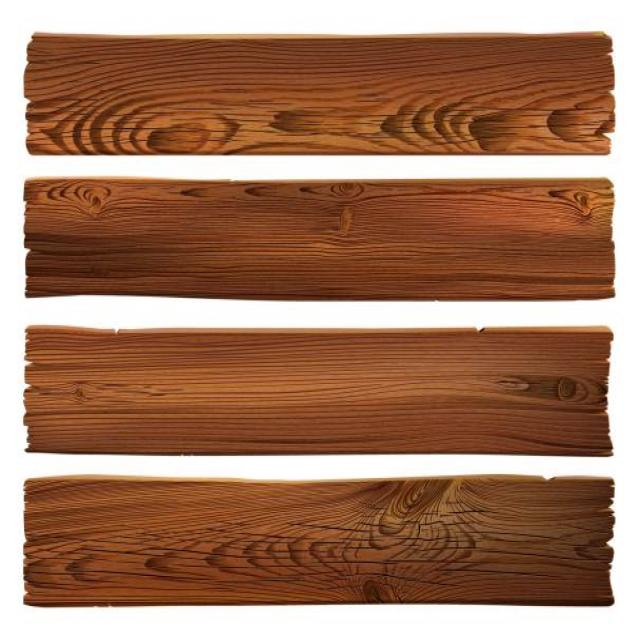perfect-wooden-plate: (25, 475, 613, 605), (25, 328, 612, 456), (25, 33, 615, 155), (25, 178, 615, 299)
